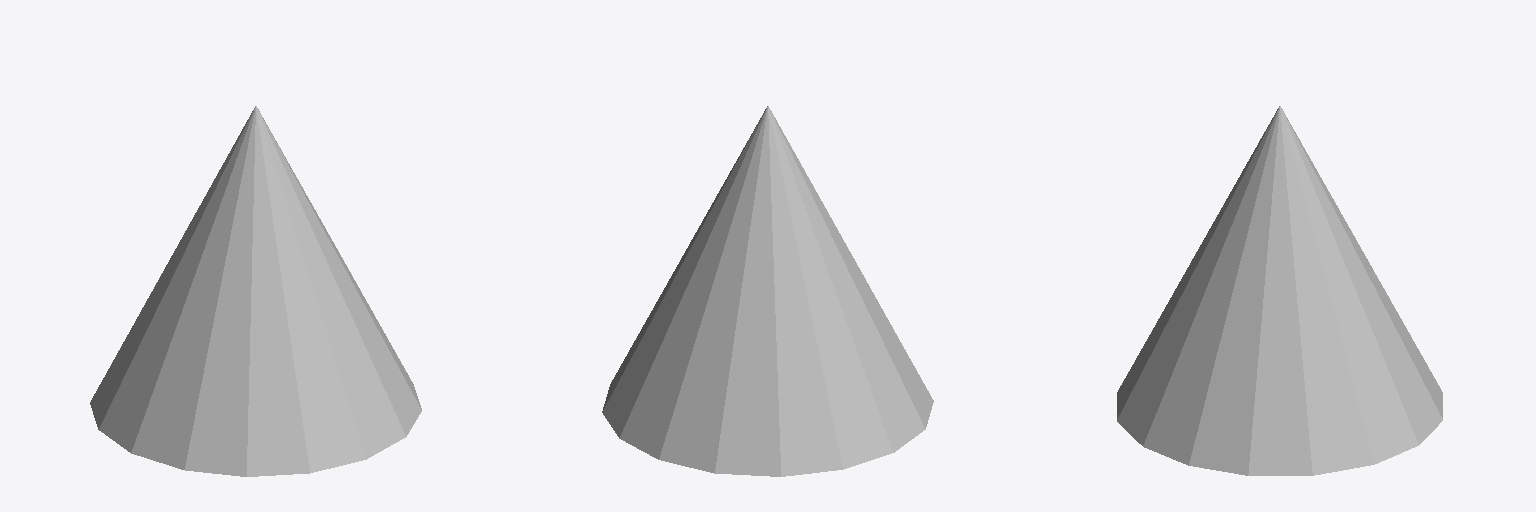
File: cune_y.obj
3 renders of one model, left to right at view 1: azimuth 30°, elevation 25°; view 2: azimuth 150°, elevation 25°; view 3: azimuth 270°, elevation 25°, orthographic.
Bounding box in the file's own units: 0.9817 × 1 × 0.9817.